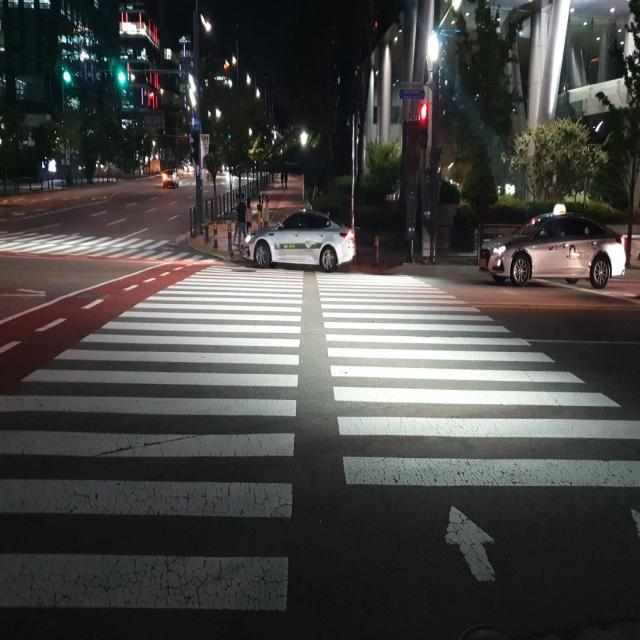빨간불: (418, 102, 431, 149)
횡단보도: (0, 264, 640, 616), (0, 235, 221, 264)
